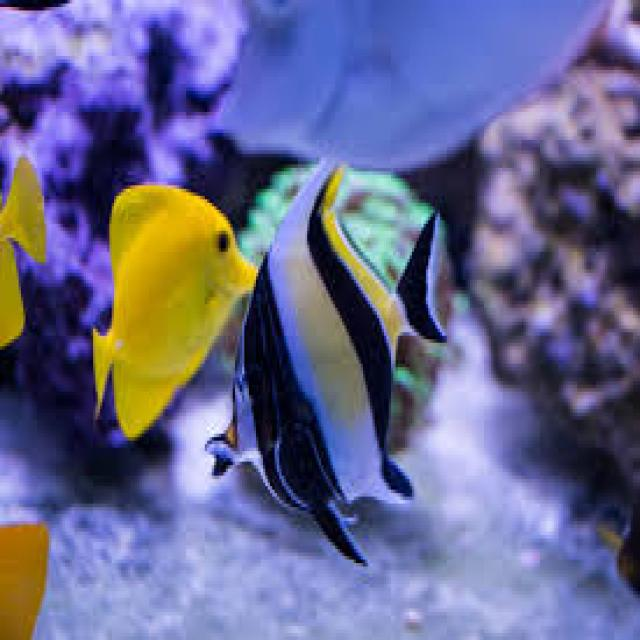MorishIdol: (203, 150, 449, 566)
